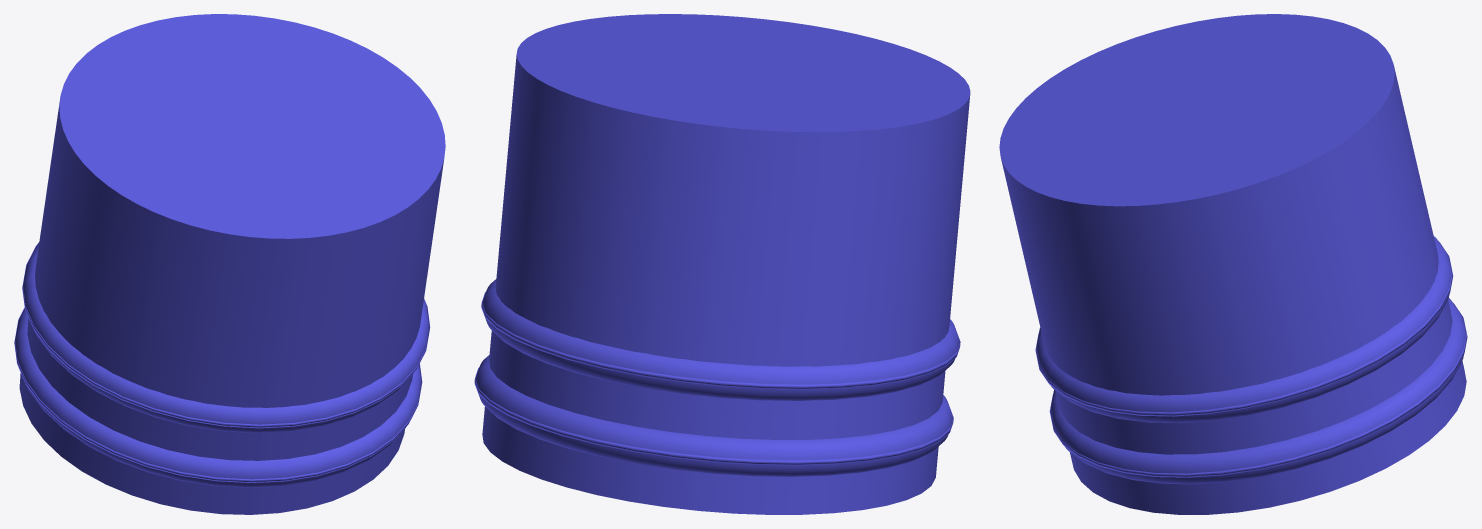
File: bombilla211.obj
3 renders of one model, left to right at view 1: azimuth 30°, elevation 25°; view 2: azimuth 150°, elevation 25°; view 3: azimuth 270°, elevation 25°, orthographic. The views are drawn at different scales.
Visible parts, largest first — view 1: Cylinder001, Cylinder004, Cylinder002, Cylinder003, Cylinder006; view 2: Cylinder001, Cylinder003, Cylinder004, Cylinder006, Cylinder002; view 3: Cylinder001, Cylinder004, Cylinder003, Cylinder002, Cylinder006.
Part boxes in pixels (x1,y1,x2,y2): Cylinder001: (35,14,445,407); Cylinder004: (14,308,422,487); Cylinder002: (22,242,430,433); Cylinder003: (27,318,412,460); Cylinder006: (19,373,404,514); Cylinder001: (495,14,970,366); Cylinder003: (489,330,945,439); Cylinder004: (474,355,953,476); Cylinder006: (482,406,938,514); Cylinder002: (481,279,960,400); Cylinder001: (999,14,1438,395); Cylinder004: (1049,298,1467,484); Cylinder003: (1055,300,1452,454); Cylinder002: (1035,236,1453,423); Cylinder006: (1070,361,1466,514).
Size of the model in its own units: 72.45 by 72.36 by 79.36.
